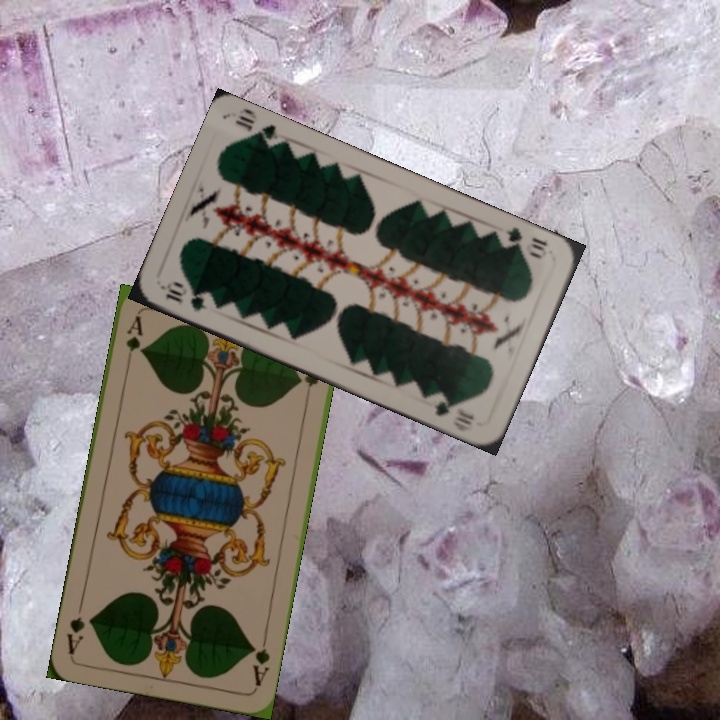G10: (159, 277, 211, 314), (502, 223, 550, 262)
GA: (247, 631, 272, 689), (122, 312, 146, 355)
